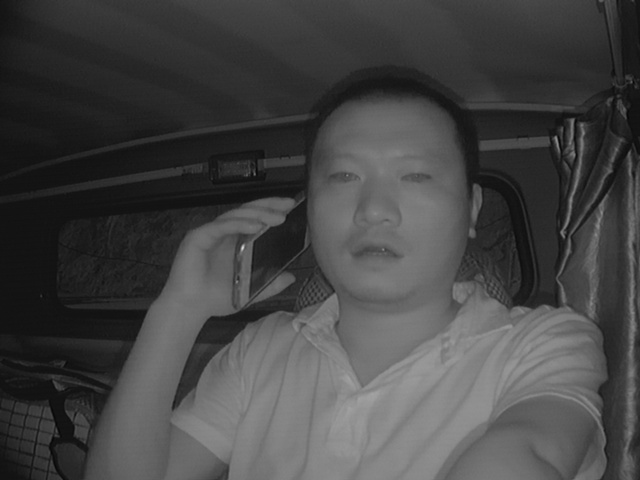hand: (170, 188, 298, 313)
